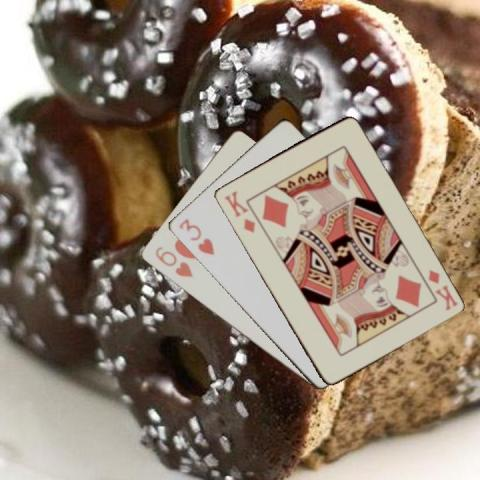3h: (176, 215, 216, 257)
6h: (151, 244, 194, 280)
Kd: (221, 187, 256, 234), (424, 267, 458, 312)
